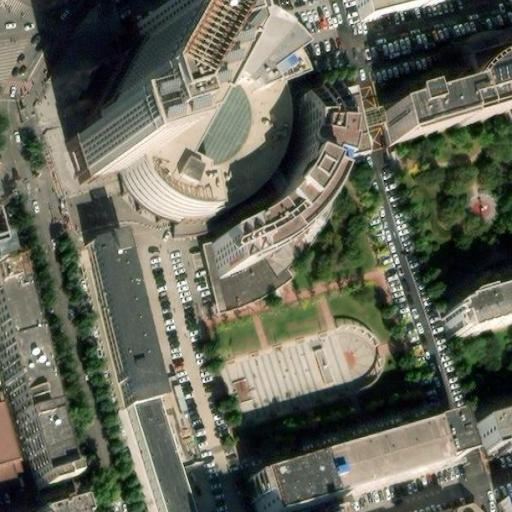building: (195, 94, 365, 314), (125, 0, 292, 211), (71, 14, 195, 180), (0, 249, 90, 474), (202, 131, 326, 283), (91, 231, 170, 394), (311, 429, 463, 512), (384, 53, 512, 136), (141, 398, 194, 512), (436, 284, 512, 335), (250, 469, 323, 512), (355, 0, 465, 20), (474, 410, 512, 451), (33, 496, 87, 512), (441, 503, 482, 512)
